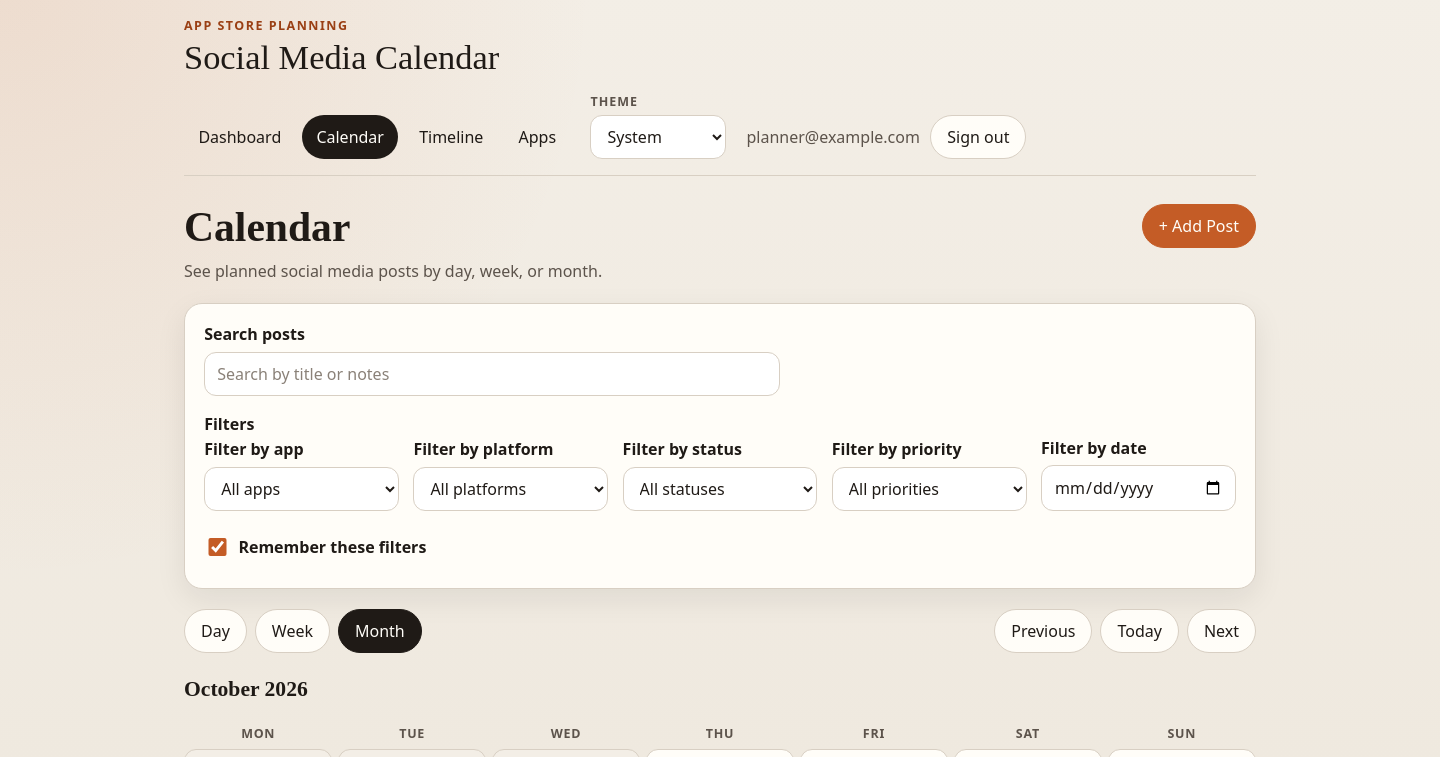
it: B-010 quick add › adds a post from the Calendar without leaving the page
Click the button "+ Add Post": point(1199, 226) [1142, 204, 1256, 248]
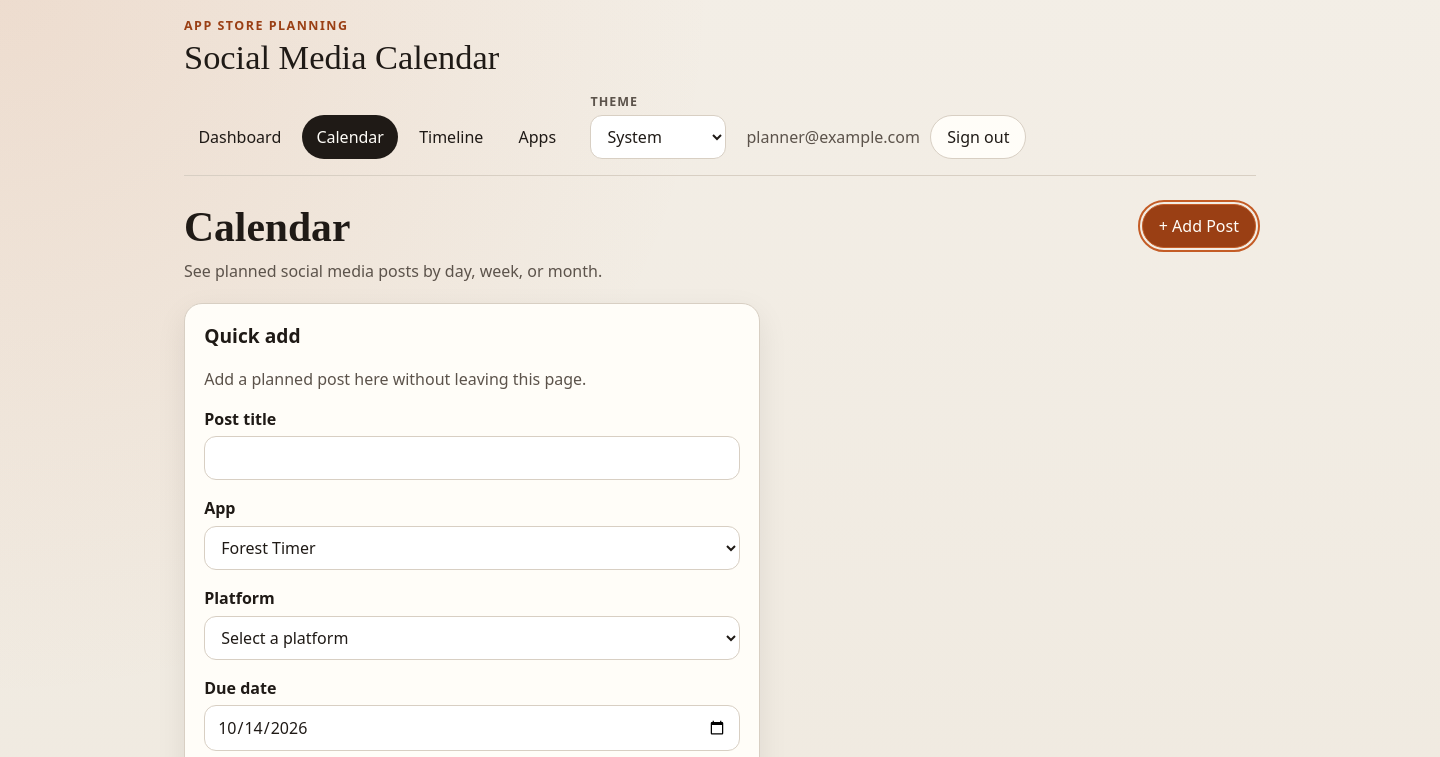
In the field labelled "Post title": point(472, 458) [204, 436, 740, 480], type "Calendar launch"
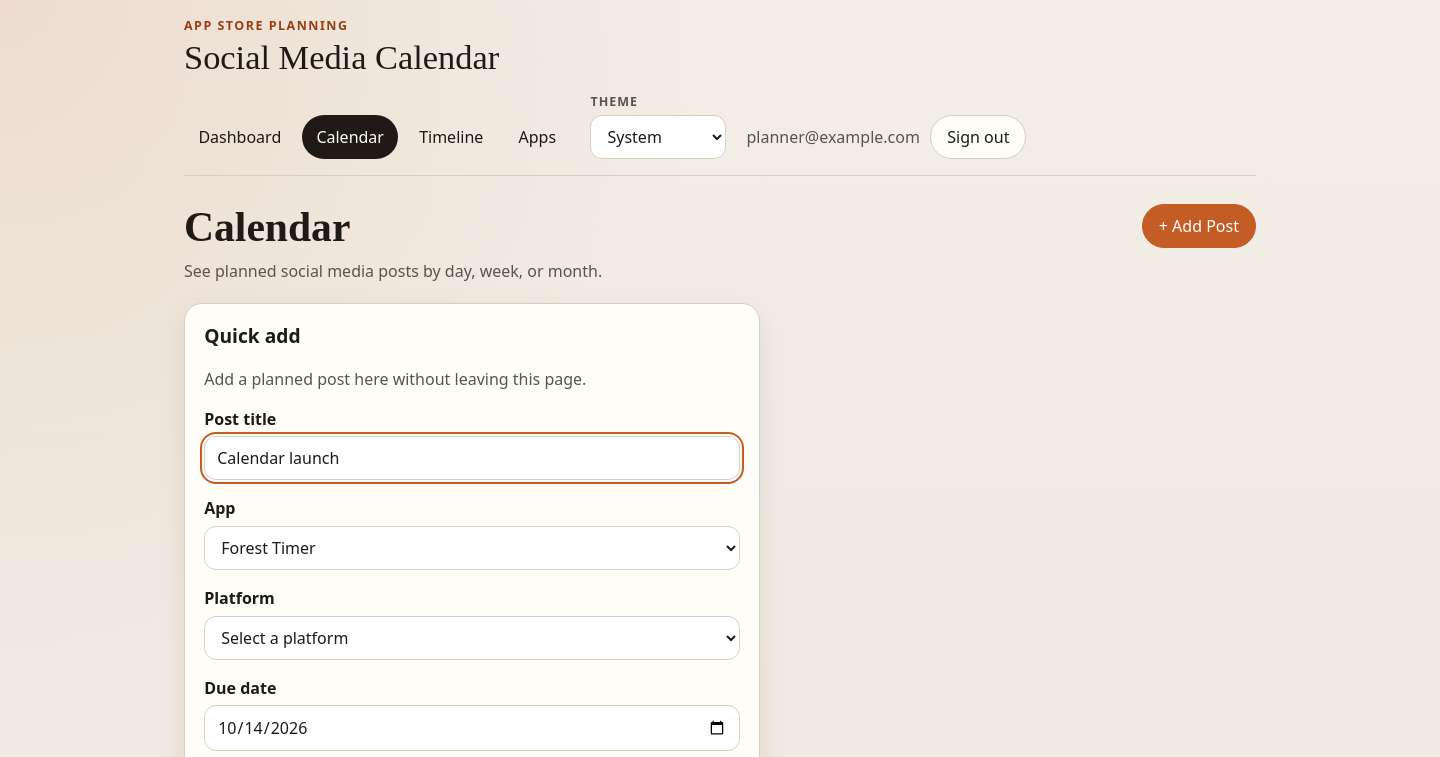
Select "TikTok" in the dropdown labelled "Platform": point(472, 638) [204, 616, 740, 660]
(page scrolled)
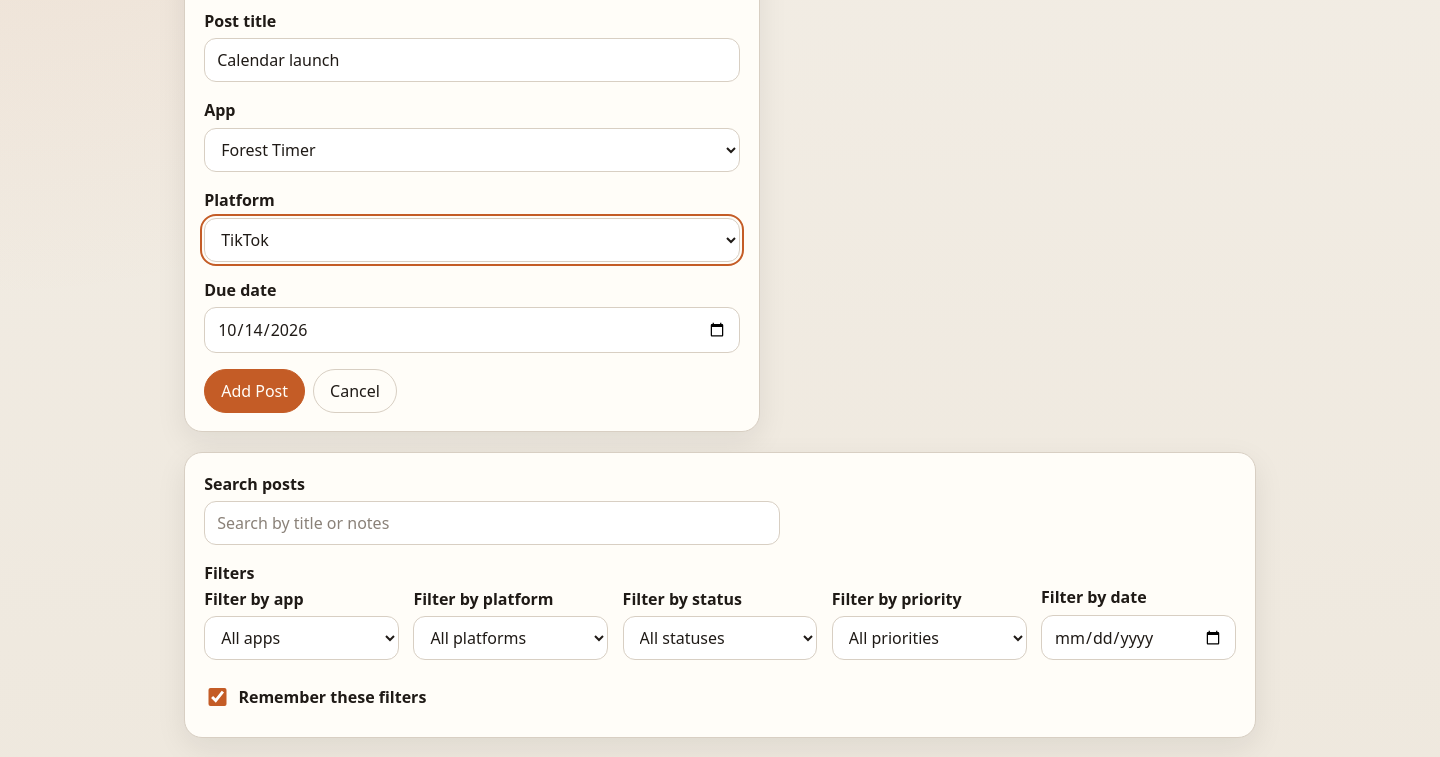
Click the button "Add Post": point(255, 391) [204, 369, 305, 413]
(page scrolled)
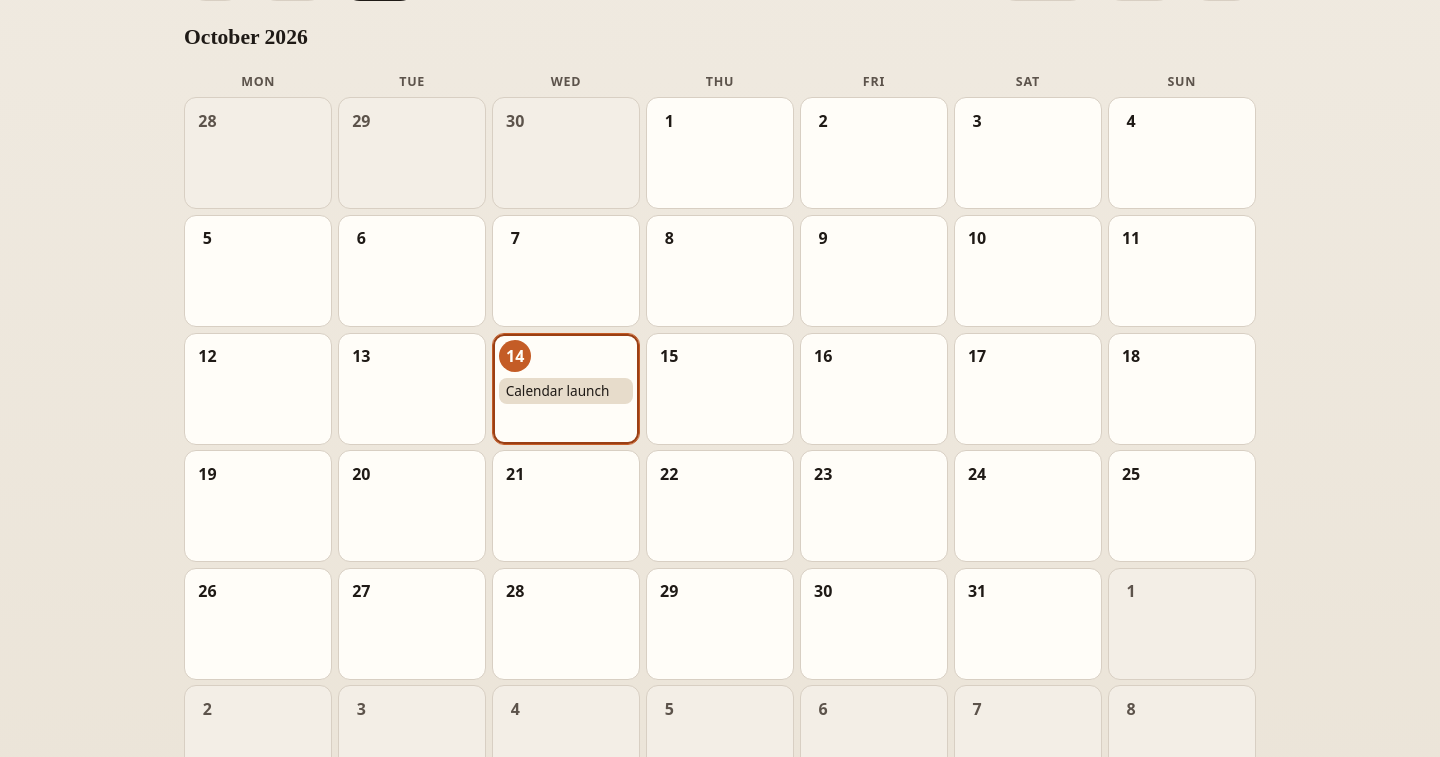
expect the link "Calendar launch" is shown: met, box [499, 378, 633, 404]
